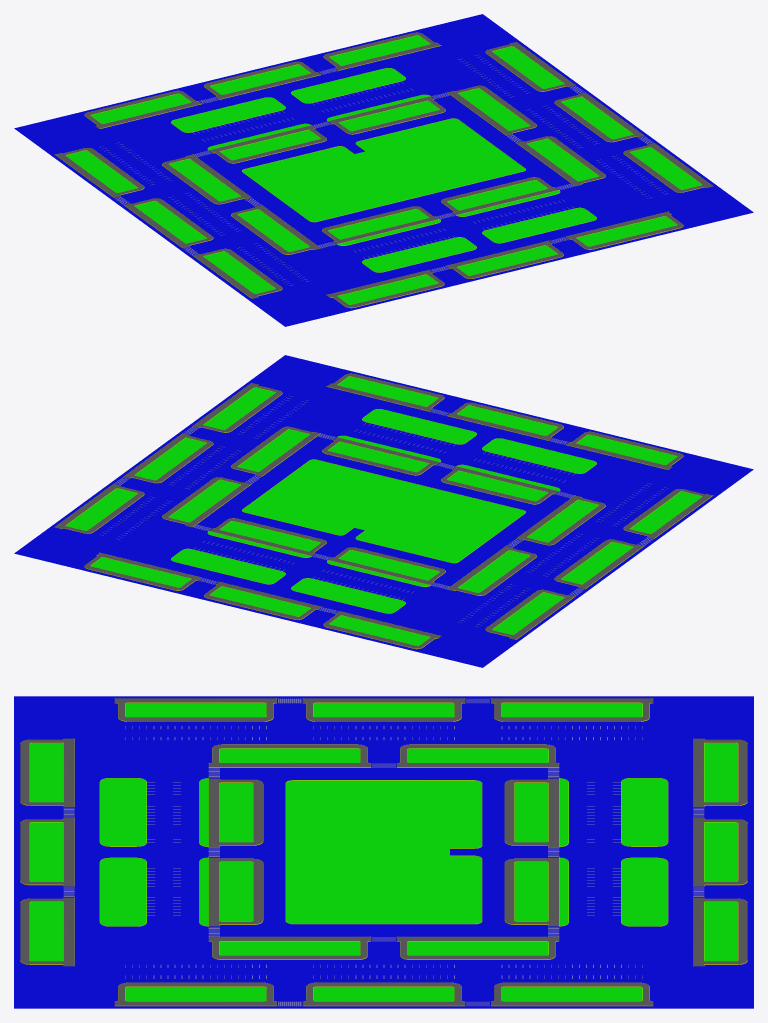
The model's file is Okrujenie_for_house_chastnay_v2.fbx.
3 renders of one model, top to bottom at view 1: azimuth 30°, elevation 25°; view 2: azimuth 150°, elevation 25°; view 3: azimuth 270°, elevation 25°, orthographic. The views are drawn at different scales.
Visible parts, largest first — view 1: Okrujenie_for_house_chastnay_v2; view 2: Okrujenie_for_house_chastnay_v2; view 3: Okrujenie_for_house_chastnay_v2.
Part boxes in pixels (x1,y1,x2,y2): Okrujenie_for_house_chastnay_v2: (14,14,753,326); Okrujenie_for_house_chastnay_v2: (14,355,753,667); Okrujenie_for_house_chastnay_v2: (14,696,753,1008).
Size of the model in its own units: 48643 by 41.2 by 48754.
